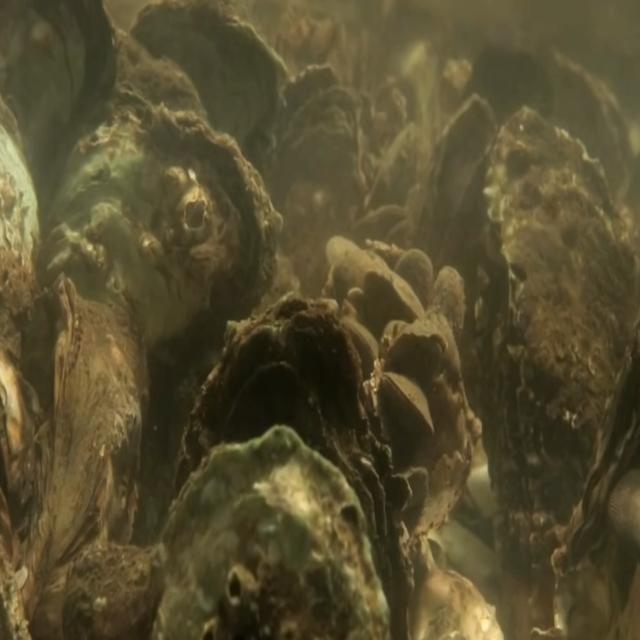Oyster-Closed: (49, 100, 282, 514), (181, 291, 412, 640), (474, 105, 634, 548), (152, 424, 390, 640), (379, 371, 434, 434), (386, 328, 448, 376)
Oyster-Indeterminate: (28, 272, 148, 640), (418, 92, 498, 323), (364, 264, 424, 318), (393, 247, 433, 318), (432, 264, 464, 340)
Oyster-Open: (262, 62, 359, 274)
